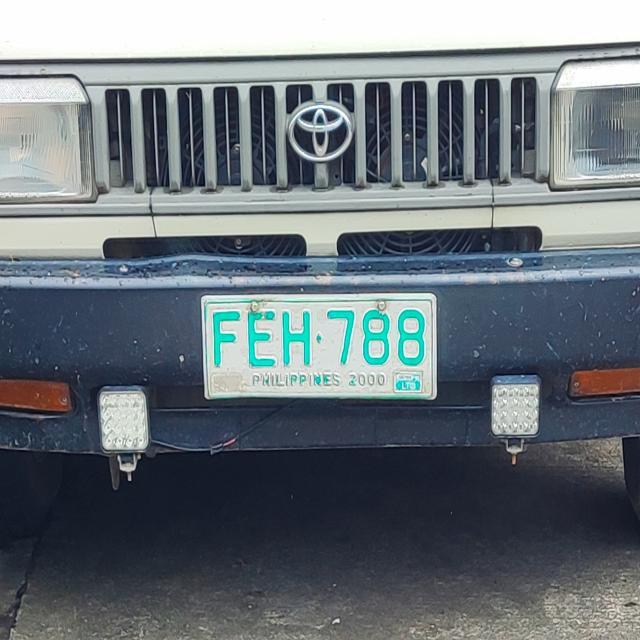plate: (200, 291, 439, 402)
